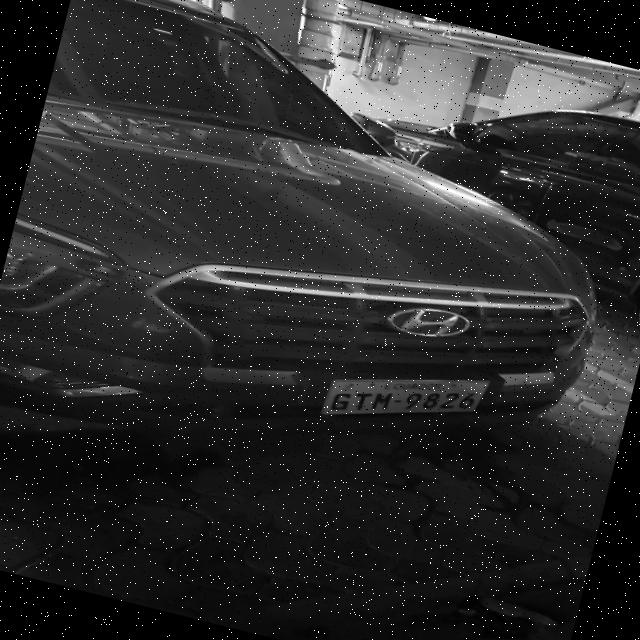Placa: (322, 380, 488, 414)
